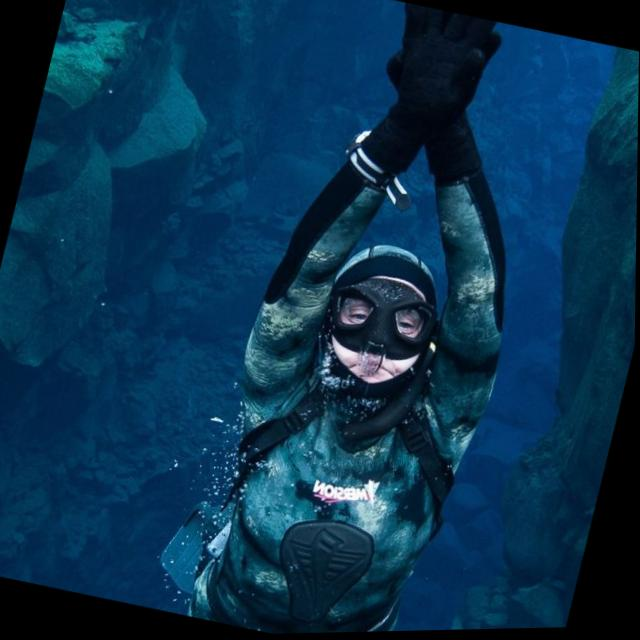human: (147, 0, 611, 637)
